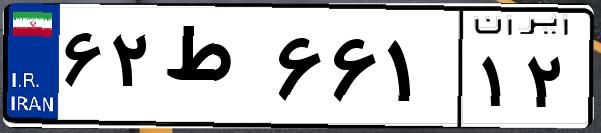1: (385, 28, 445, 110), (475, 38, 525, 113)
2: (525, 38, 570, 115), (110, 28, 158, 98)
6: (270, 28, 330, 110), (330, 28, 385, 110), (57, 26, 110, 100)
ط: (158, 20, 270, 120)
